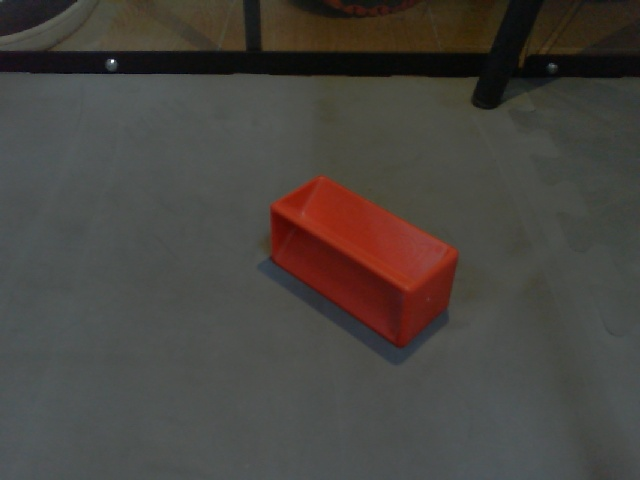RedSample: (268, 173, 461, 346)
